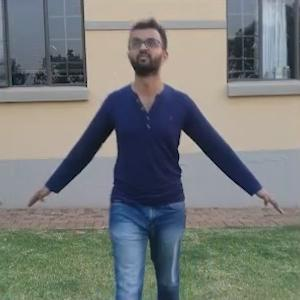land: (20, 0, 272, 298)
